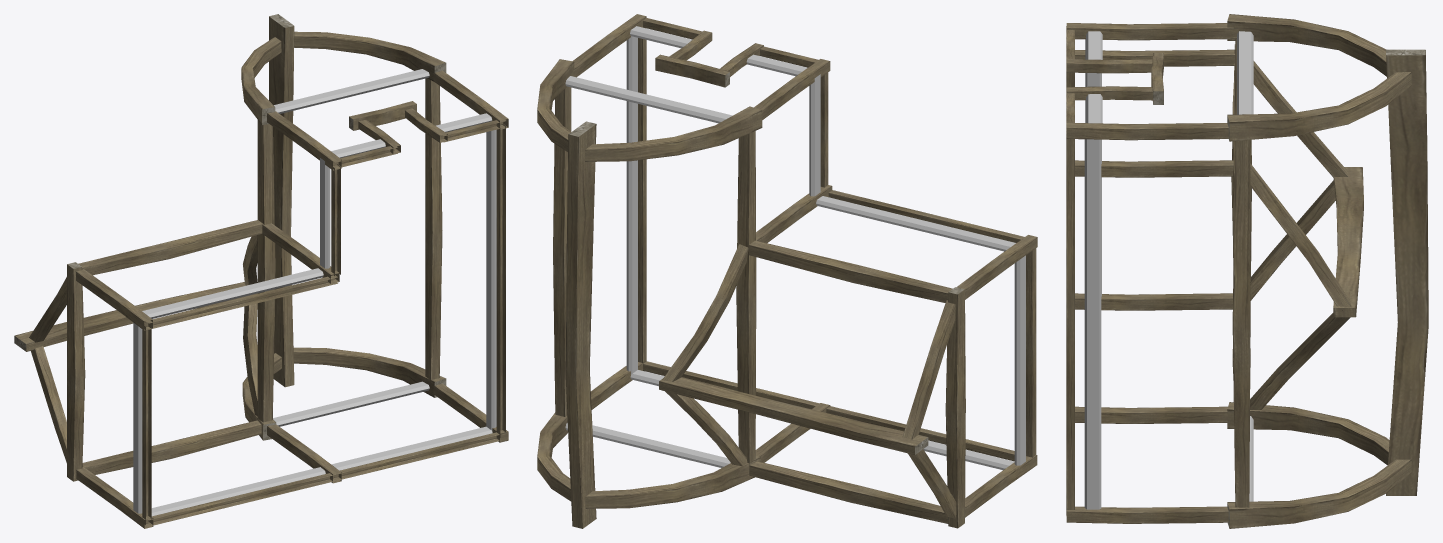
The model's file is Pirate_House_Structure_D.fbx.
3 views of the same model, side by side, from view 1: azimuth 30°, elevation 25°; view 2: azimuth 150°, elevation 25°; view 3: azimuth 270°, elevation 25° (orthographic). The views are drawn at different scales.
Visible parts, largest first — view 1: Pirate_House_Structure_D; view 2: Pirate_House_Structure_D; view 3: Pirate_House_Structure_D.
Part boxes in pixels (left/top/right/bottom): Pirate_House_Structure_D: left=14, top=14, right=508, bottom=528; Pirate_House_Structure_D: left=537, top=14, right=1037, bottom=528; Pirate_House_Structure_D: left=1066, top=14, right=1428, bottom=528.
Size of the model in its own units: 12.3 by 11.18 by 8.34.
